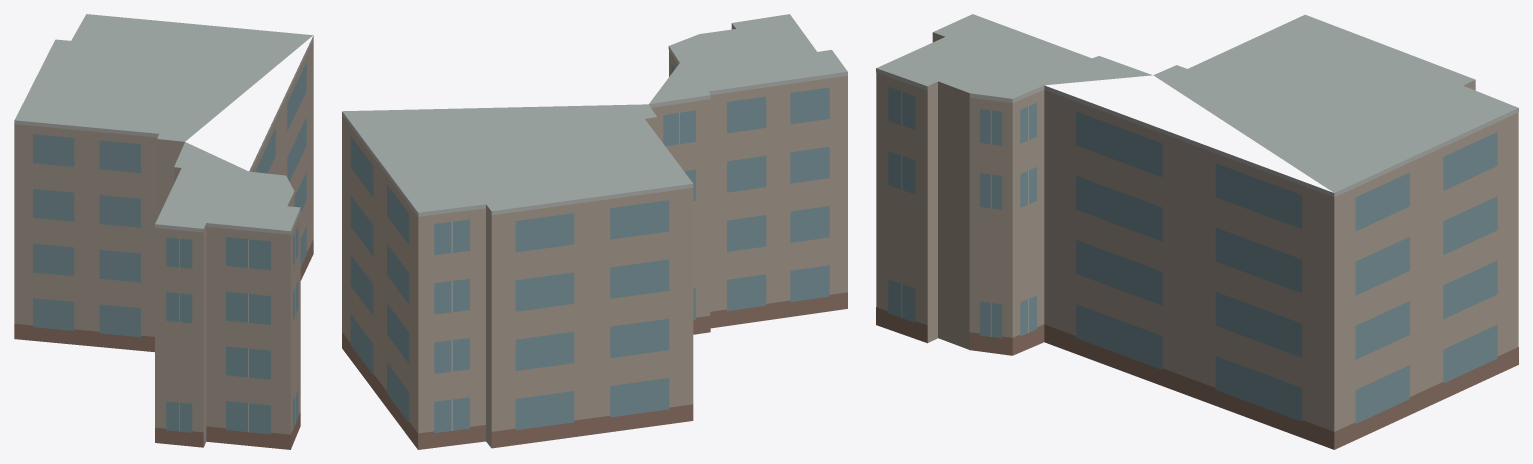
The model's file is survey-upis-32670833.glb.
3 renders of one model, left to right at view 1: azimuth 30°, elevation 25°; view 2: azimuth 150°, elevation 25°; view 3: azimuth 270°, elevation 25°, orthographic. The views are drawn at different scales.
Parts seen in each view (by area): view 1: survey-upis-32670833.tmp; view 2: survey-upis-32670833.tmp; view 3: survey-upis-32670833.tmp.
Boxes of the visible parts, box(x1,y1,x2,y2) form: survey-upis-32670833.tmp: box(14, 14, 313, 449); survey-upis-32670833.tmp: box(342, 14, 847, 449); survey-upis-32670833.tmp: box(876, 14, 1518, 449).
Bounding box in the file's own units: 21.39 × 14.3 × 32.43.
